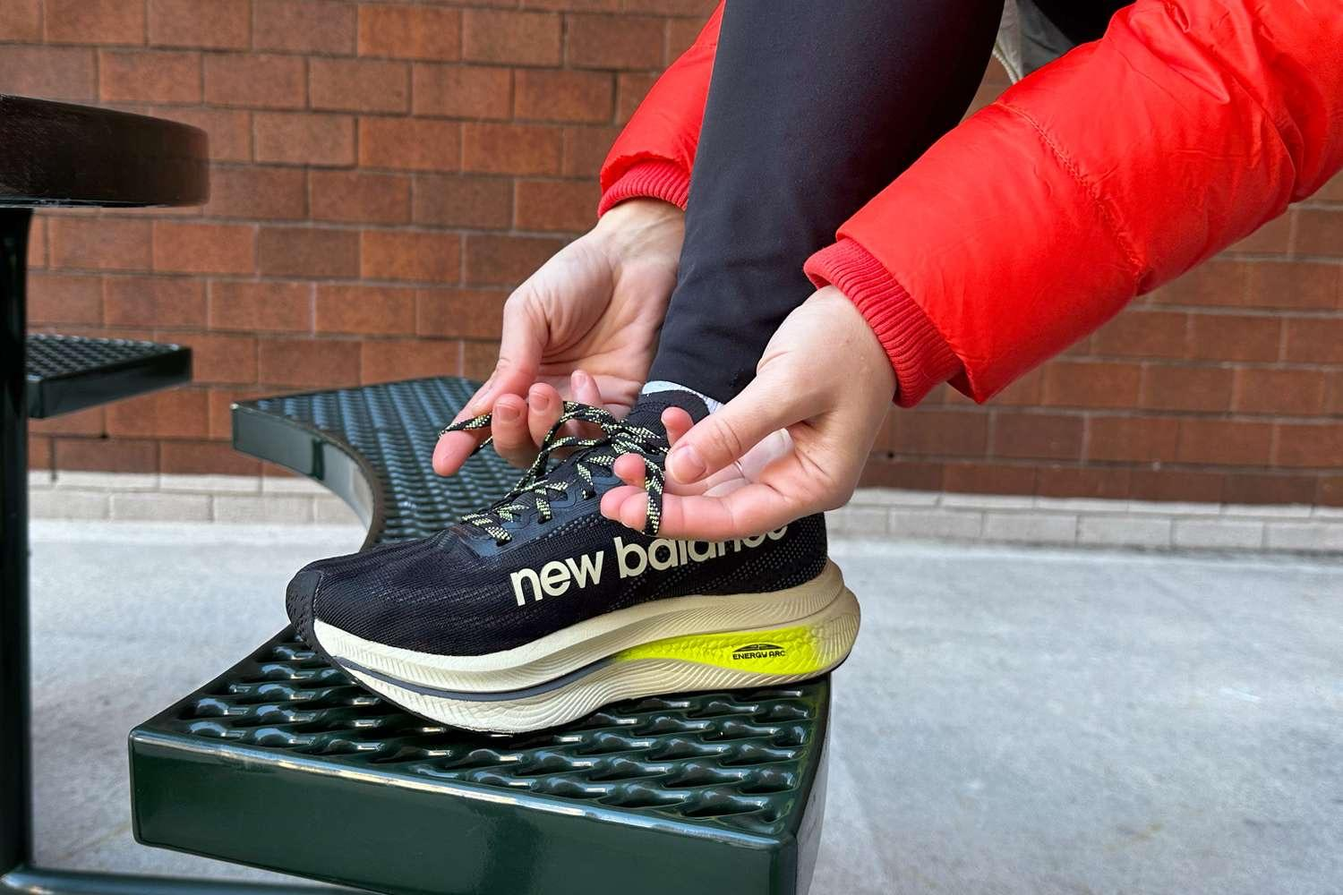NB logo: (505, 522, 791, 606)
